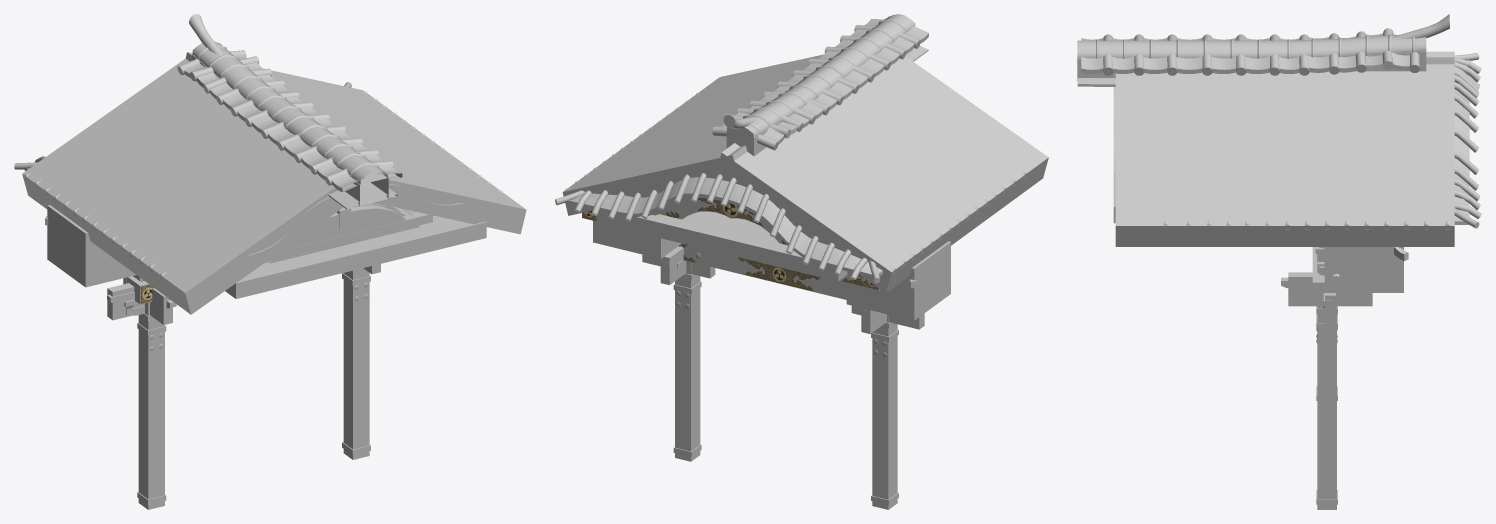
File: SM_Temple_Entrance_Design_01.fbx
3 renders of one model, left to right at view 1: azimuth 30°, elevation 25°; view 2: azimuth 150°, elevation 25°; view 3: azimuth 270°, elevation 25°, orthographic. The views are drawn at different scales.
Parts seen in each view (by area): view 1: SM_Temple_Entrance_Design_01_ConvexHulls, SM_Temple_Entrance_Design_01; view 2: SM_Temple_Entrance_Design_01_ConvexHulls, SM_Temple_Entrance_Design_01; view 3: SM_Temple_Entrance_Design_01_ConvexHulls, SM_Temple_Entrance_Design_01.
Boxes of the visible parts, box(x1,y1,x2,y2) form: SM_Temple_Entrance_Design_01_ConvexHulls: box(22, 52, 526, 508); SM_Temple_Entrance_Design_01: box(14, 14, 502, 509); SM_Temple_Entrance_Design_01_ConvexHulls: box(562, 54, 1048, 508); SM_Temple_Entrance_Design_01: box(555, 14, 1025, 509); SM_Temple_Entrance_Design_01_ConvexHulls: box(1113, 51, 1454, 509); SM_Temple_Entrance_Design_01: box(1077, 14, 1481, 509).
Size of the model in its own units: 837 by 820 by 982.
Materials: 7 (1 with a texture image).
